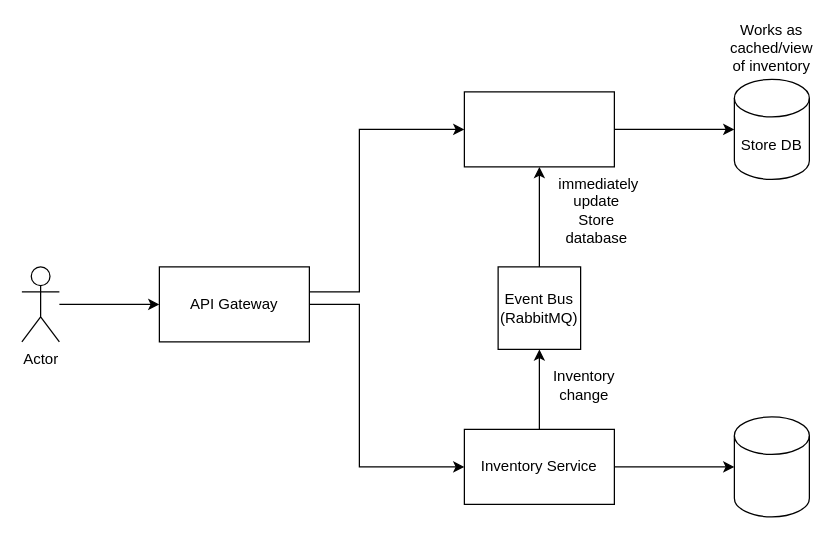
Image size: 835x539. Some labels were removed from this diagram. Here are the shapes that lost their labels. From the top down, the box of each, then its label:
(463, 91, 614, 167): Store Service
(733, 416, 809, 517): Inventory DB
